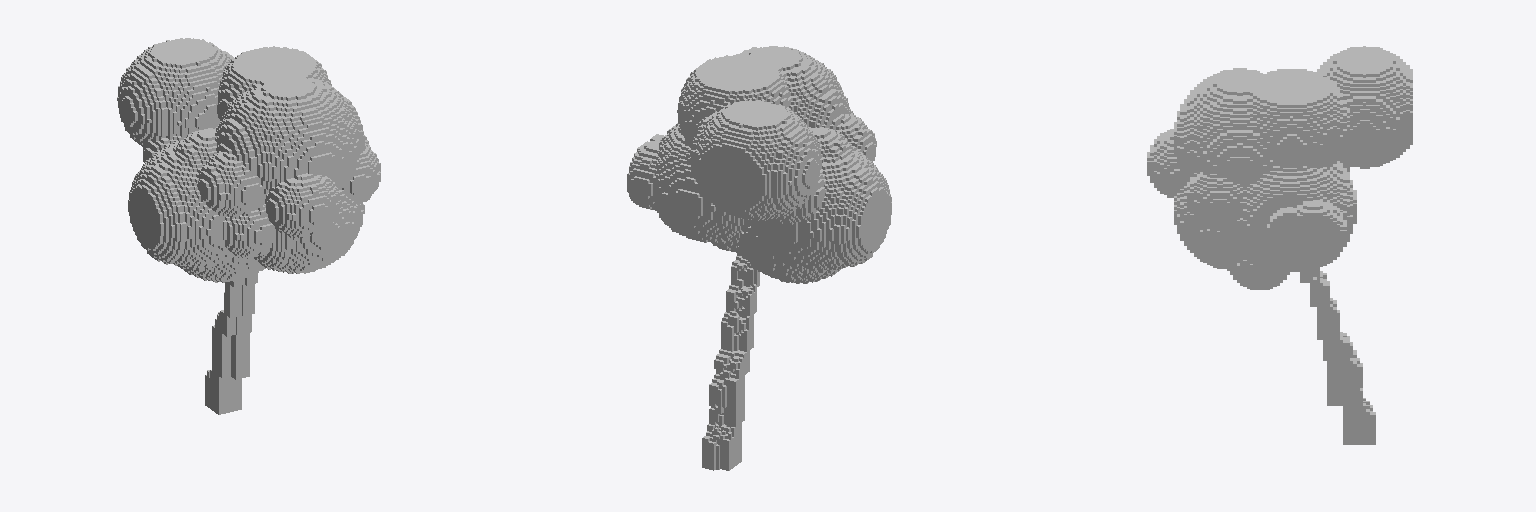
The model's file is BeeTree.obj.
3 views of the same model, side by side, from view 1: azimuth 30°, elevation 25°; view 2: azimuth 150°, elevation 25°; view 3: azimuth 270°, elevation 25° (orthographic).
Visible parts, largest first — view 1: Untitled; view 2: Untitled; view 3: Untitled.
Boxes of the visible parts, <box> form: Untitled: <box>117,38,380,414</box>; Untitled: <box>627,46,891,470</box>; Untitled: <box>1147,46,1412,444</box>.
Bounding box in the file's own units: 7.6 × 12 × 8.